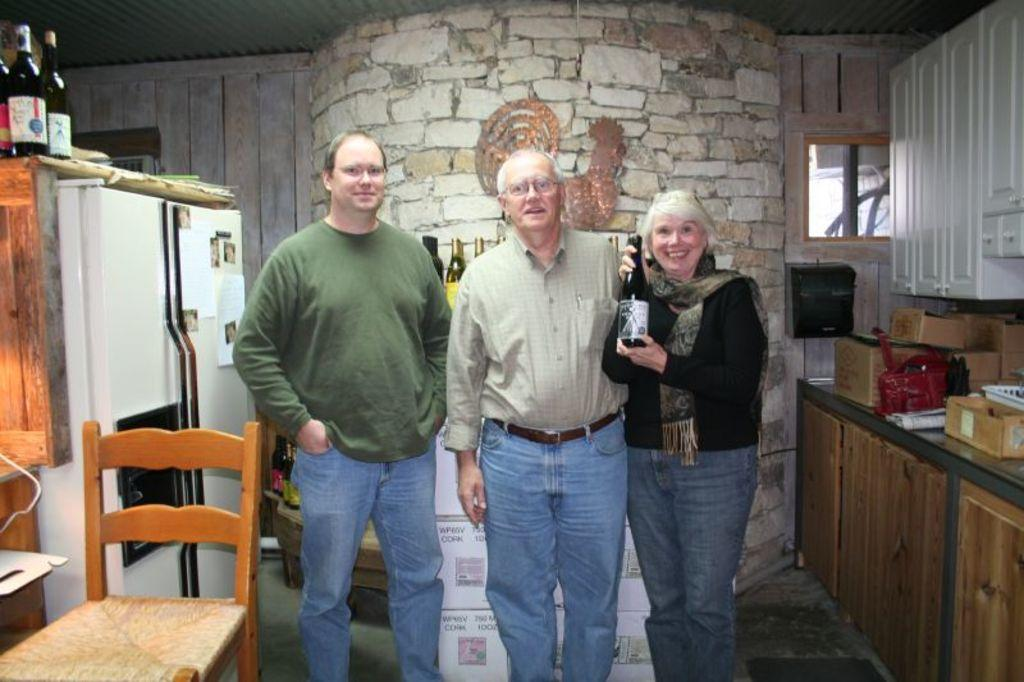Chair: (0, 418, 262, 681)
Computer-monitor: (783, 259, 857, 339)
Luggage-and-bags: (869, 326, 953, 417)
